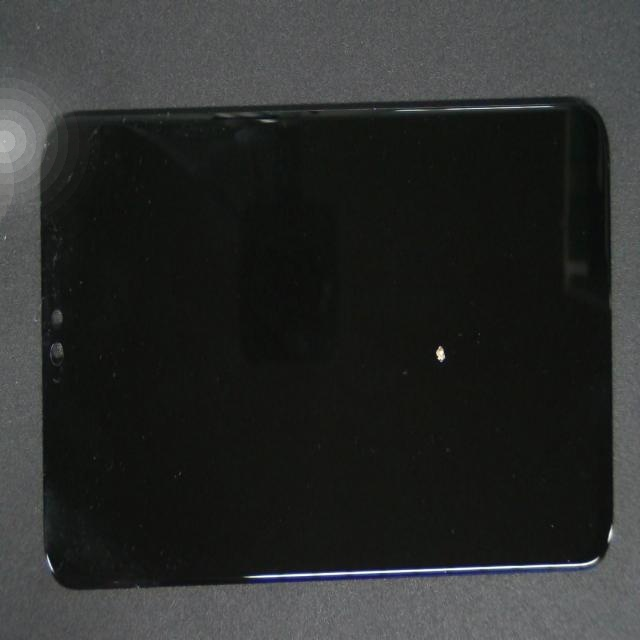stain: (217, 151, 640, 536)
